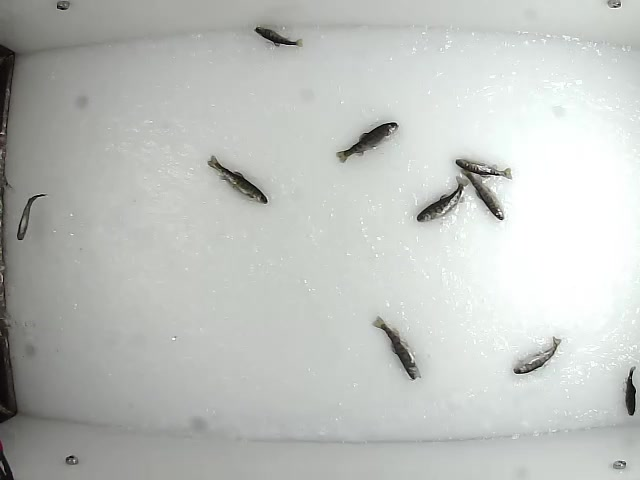fish: (370, 315, 423, 381), (206, 154, 269, 206), (334, 120, 399, 164), (414, 173, 470, 224), (461, 164, 507, 224), (511, 334, 562, 376), (13, 191, 48, 241), (452, 158, 514, 182), (252, 25, 303, 50), (622, 364, 637, 418)
